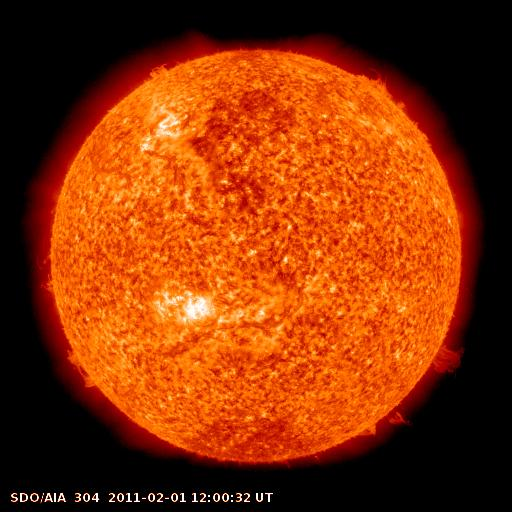prominence: (325, 401, 419, 453), (414, 316, 479, 385), (57, 339, 105, 402), (361, 60, 415, 112), (28, 240, 70, 306), (129, 51, 188, 89)
